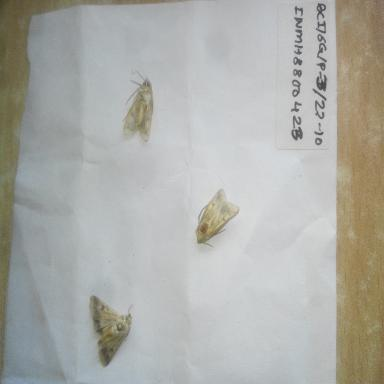abw: (82, 292, 138, 370), (116, 64, 162, 148), (192, 186, 244, 250)
